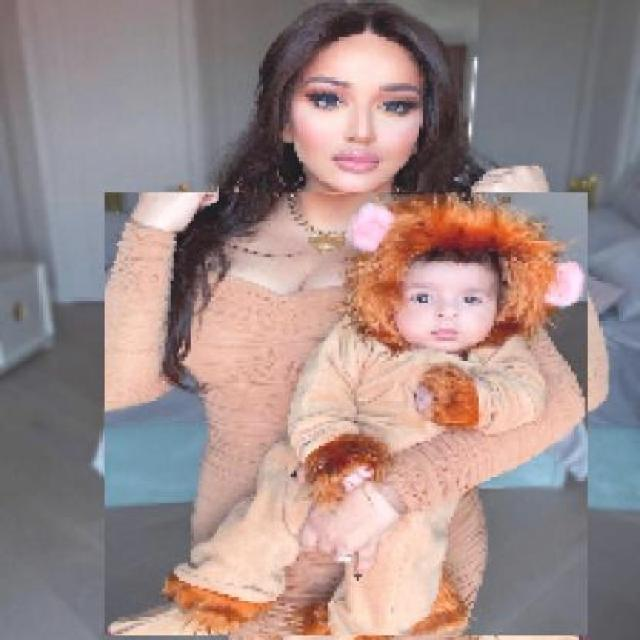child: (103, 192, 588, 637)
